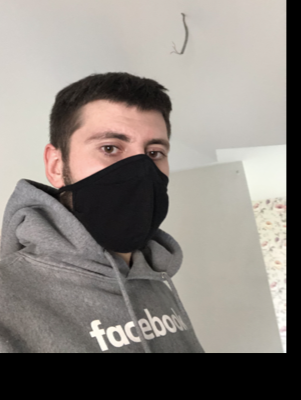with_mask: (69, 116, 169, 253)
